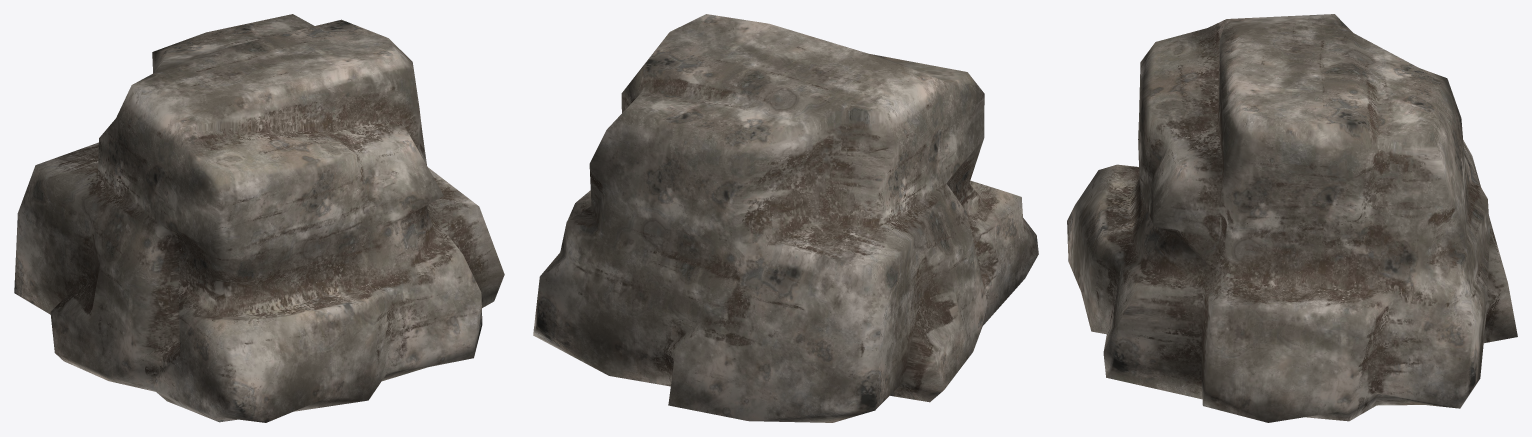
File: Rock_8.fbx
The picture shows the model from 3 angles, left to right: view 1: azimuth 30°, elevation 25°; view 2: azimuth 150°, elevation 25°; view 3: azimuth 270°, elevation 25°; orthographic projection.
Parts seen in each view (by area): view 1: Rock_8; view 2: Rock_8; view 3: Rock_8.
Boxes of the visible parts, left/top/right/bottom form: Rock_8: left=14, top=14, right=504, bottom=422; Rock_8: left=533, top=14, right=1038, bottom=422; Rock_8: left=1067, top=14, right=1517, bottom=422.
Size of the model in its own units: 794 by 561 by 788.
Materials: 1 (1 with a texture image).
